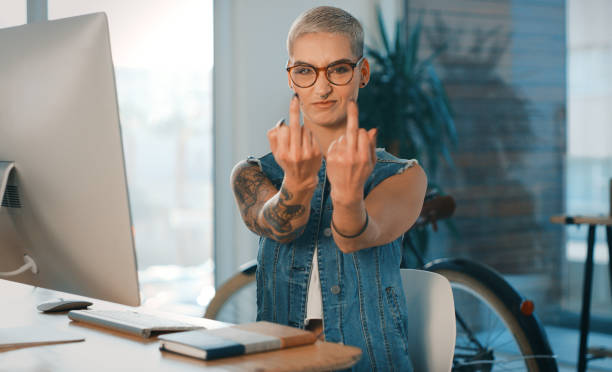insulting_gesture: (323, 99, 380, 194), (267, 92, 320, 182)
